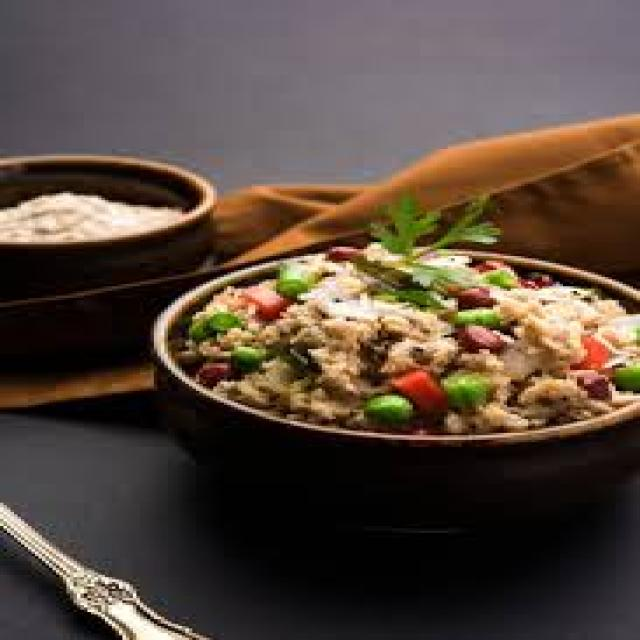POHA: (171, 244, 630, 431)
